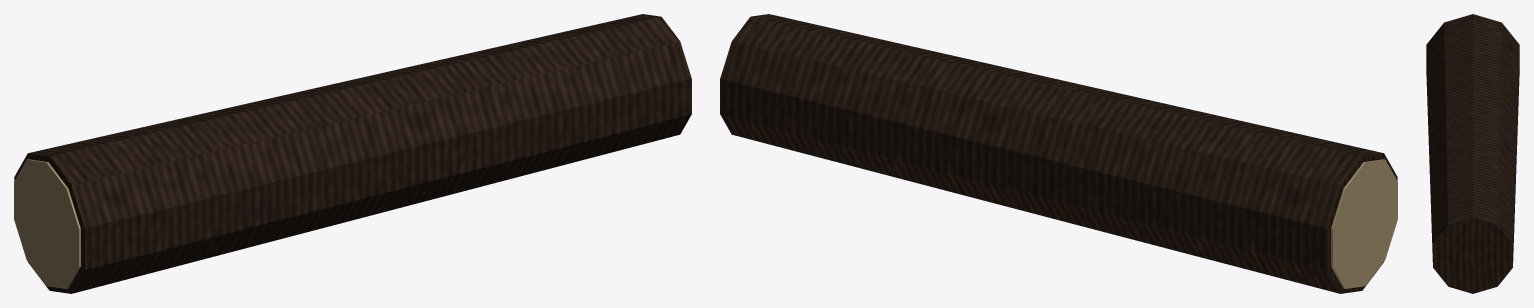
File: Log_Fallen.glb
3 renders of one model, left to right at view 1: azimuth 30°, elevation 25°; view 2: azimuth 150°, elevation 25°; view 3: azimuth 270°, elevation 25°, orthographic. The views are drawn at different scales.
Parts seen in each view (by area): view 1: Log_Fallen; view 2: Log_Fallen; view 3: Log_Fallen.
Part boxes in pixels (<box>): Log_Fallen: <box>14,14,691,293</box>; Log_Fallen: <box>720,14,1397,293</box>; Log_Fallen: <box>1426,14,1519,293</box>.
Size of the model in its own units: 2.01 by 0.42 by 0.3994.
2 materials, 1 textured.
